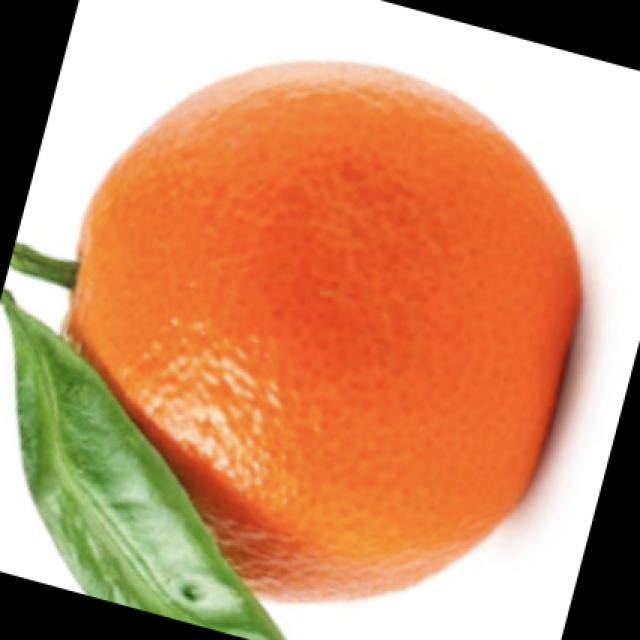fresh: (0, 50, 607, 622)
